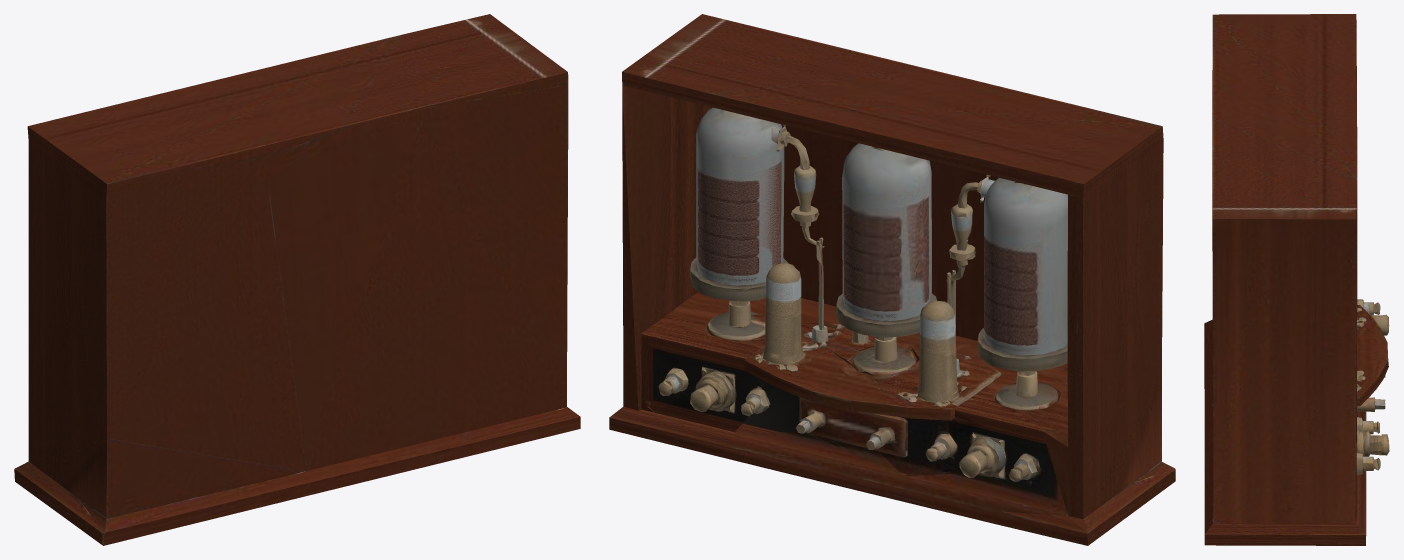
File: mj-marconi-transmitter.glb
3 renders of one model, left to right at view 1: azimuth 30°, elevation 25°; view 2: azimuth 150°, elevation 25°; view 3: azimuth 270°, elevation 25°, orthographic. The views are drawn at different scales.
Visible parts, largest first — view 1: mj-marconi-transmitter; view 2: mj-marconi-transmitter; view 3: mj-marconi-transmitter.
Part boxes in pixels (left/top/right/bottom): mj-marconi-transmitter: left=14, top=14, right=580, bottom=545; mj-marconi-transmitter: left=609, top=14, right=1175, bottom=545; mj-marconi-transmitter: left=1204, top=14, right=1389, bottom=545.
Size of the model in its own units: 1.68 by 1.2 by 0.6204.
Materials: 1 (1 with a texture image).
